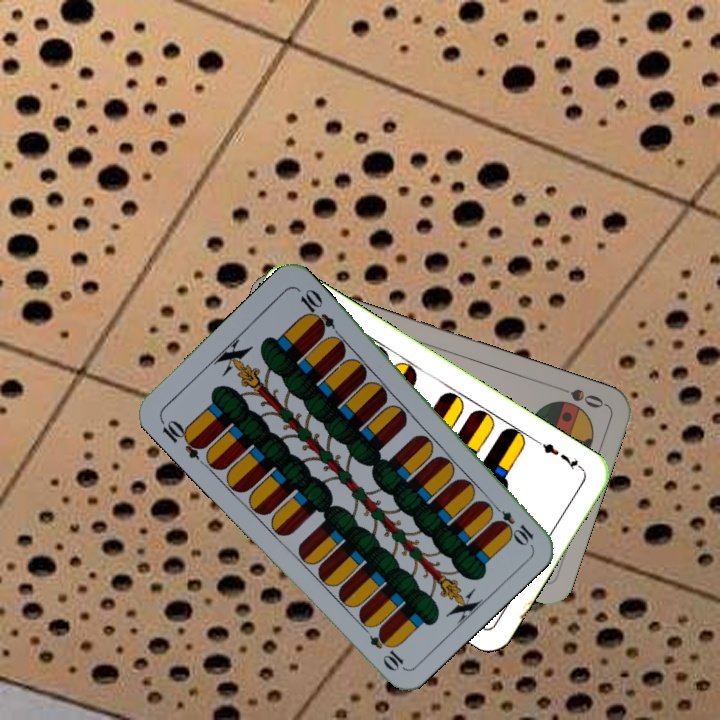E10: (156, 415, 208, 462), (487, 499, 536, 547)
E7: (533, 436, 586, 474)
SO: (550, 381, 607, 411)
